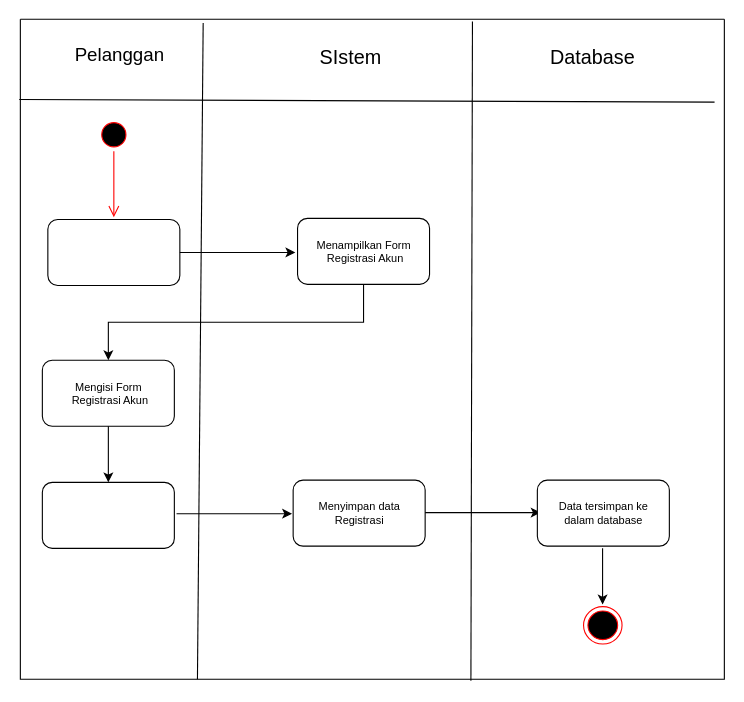
Some shapes in this 744 by 702 pixel diagram are drawn without their labels. Each missing label, with the centre of its shape:
"Klik button Submit" belongs at [107,514].
"Memilih Tombol Registrasi Akun" belongs at [113,251].
